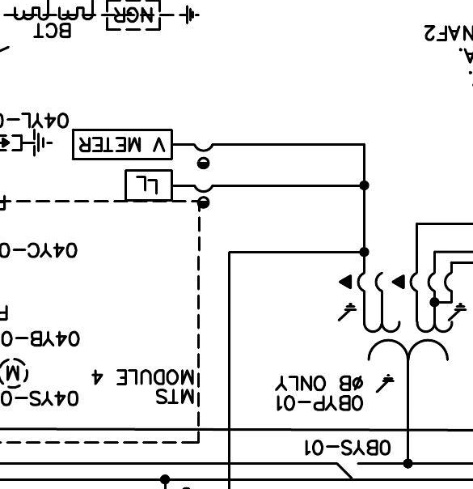115_ds: (336, 462, 360, 478)
115_vt_1p: (337, 271, 468, 394)
LL: (124, 169, 174, 202)
v_m_digital: (71, 128, 174, 161)
